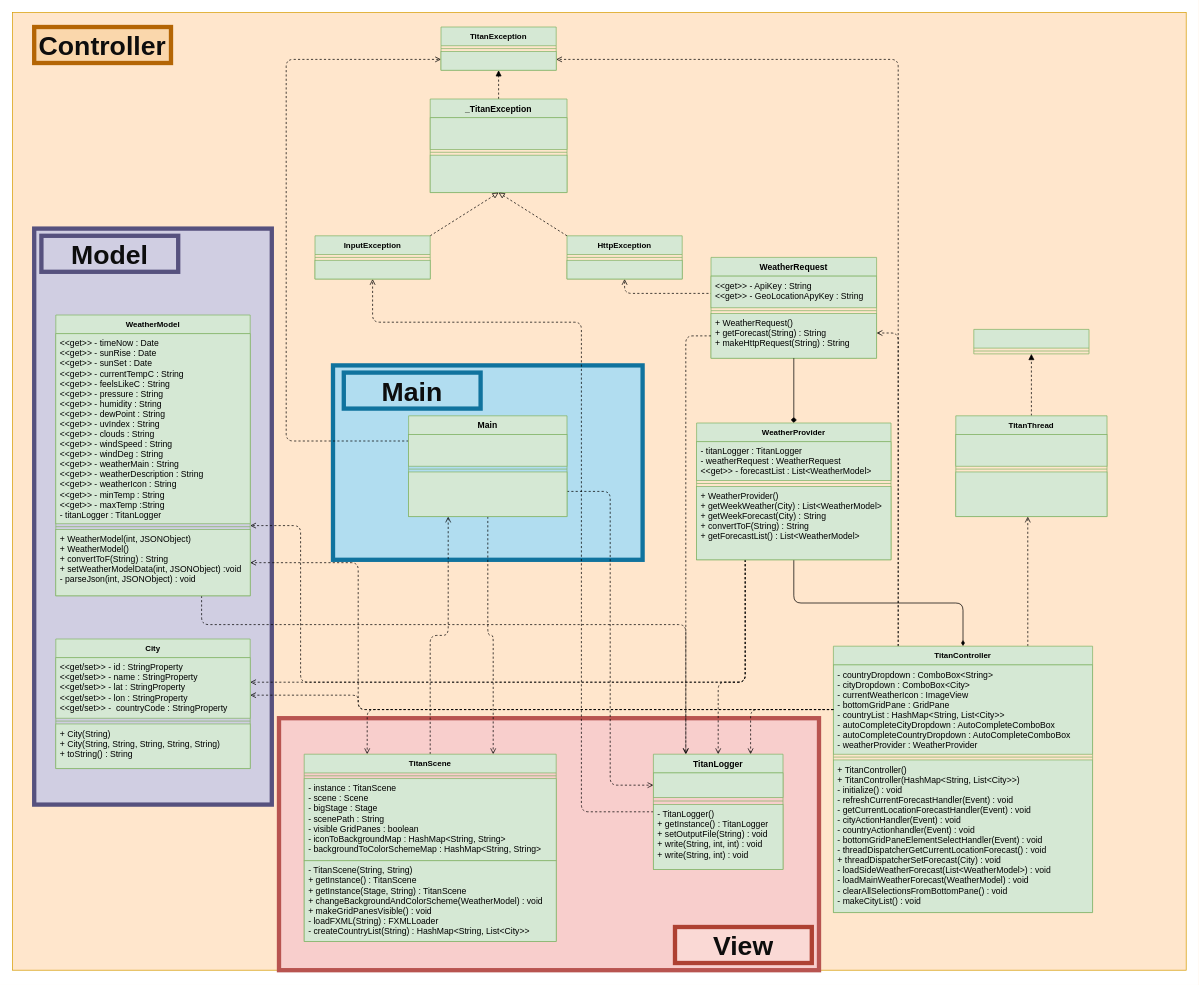
Image size: 1199x985. Some labels were removed from this diagram. The box of each missing label's shape, as (x1, y1, x2, y2) in pixels:
+ _TitanException(String, String) + getMessage() : String: (429, 154, 567, 193)
+ getMessage() : String: (440, 51, 556, 70)
+ HttpException(String): (566, 260, 682, 279)
+ InputException(String): (314, 260, 430, 279)
+ start(Stage) : void + main(String[]) : void - parseArguments(String[]) : void: (408, 471, 567, 517)
+ TitanThread(Runnable) + runNewThread(Runnable) : void + run() : void: (955, 471, 1107, 517)
- instange : TitanLogger - outputFile : FileWriter: (653, 772, 783, 797)
- loggerFilePath : String - inputCityFilePath : String: (408, 434, 567, 466)
- message : String - exceptionType : String: (429, 117, 567, 149)
- runnable : Runnable - executorService : ExecutorService: (955, 434, 1107, 466)
Runnable: (973, 329, 1089, 354)
